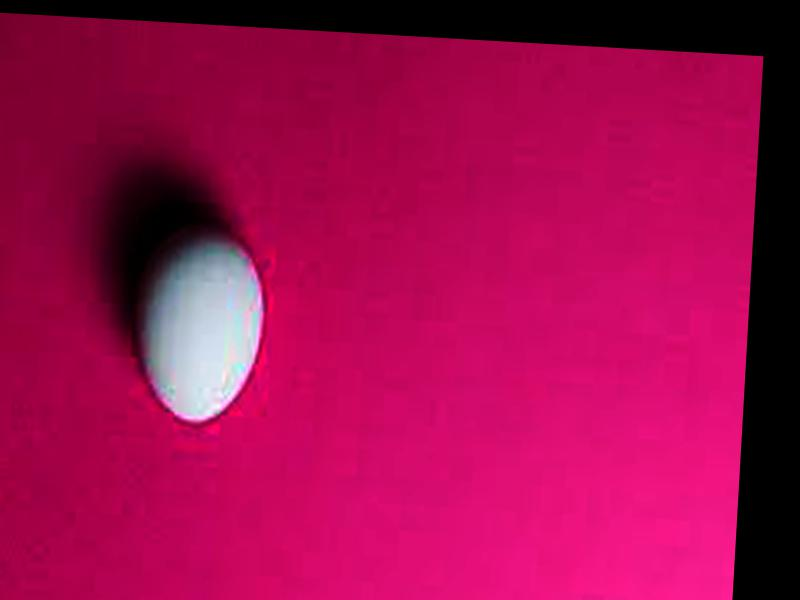Eggs: (130, 221, 269, 426)
